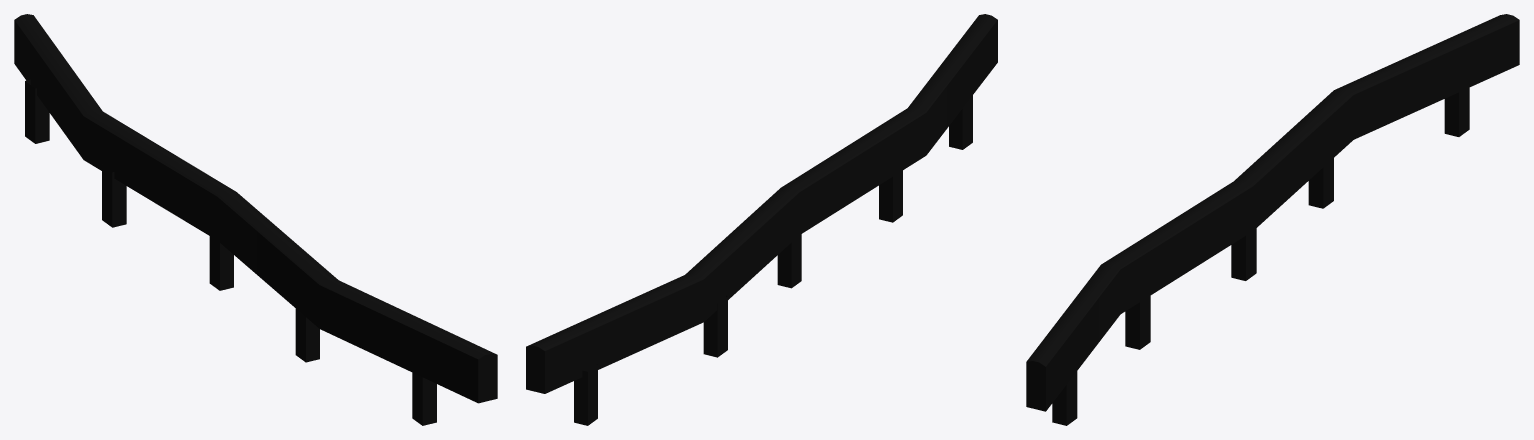
File: railing1.FBX
3 views of the same model, side by side, from view 1: azimuth 30°, elevation 25°; view 2: azimuth 150°, elevation 25°; view 3: azimuth 330°, elevation 25° (orthographic). The views are drawn at different scales.
Parts seen in each view (by area): view 1: Box004; view 2: Box004; view 3: Box004.
Part boxes in pixels (<box>): Box004: <box>14,14,497,425</box>; Box004: <box>526,14,997,425</box>; Box004: <box>1026,14,1519,425</box>.
Size of the model in its own units: 4.11 by 5.66 by 50.
